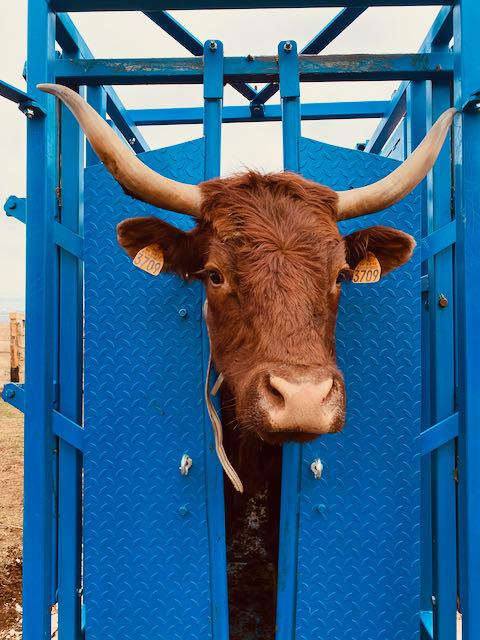muzzles: (234, 364, 351, 448)
